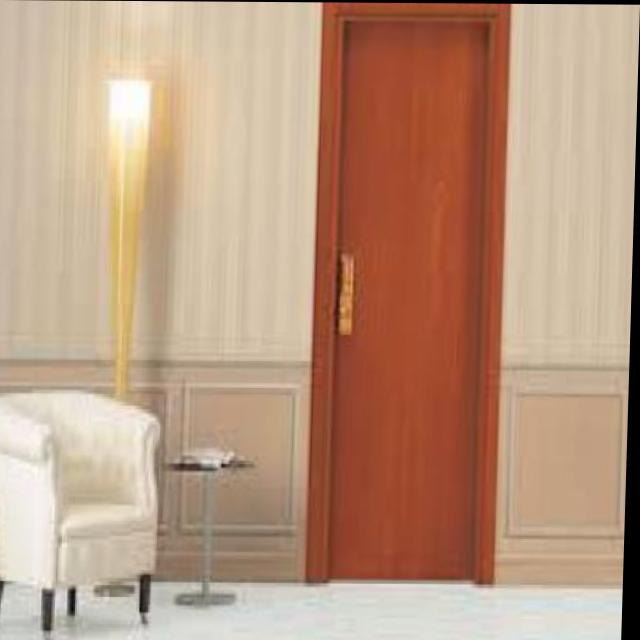door_handle: (334, 243, 366, 349)
